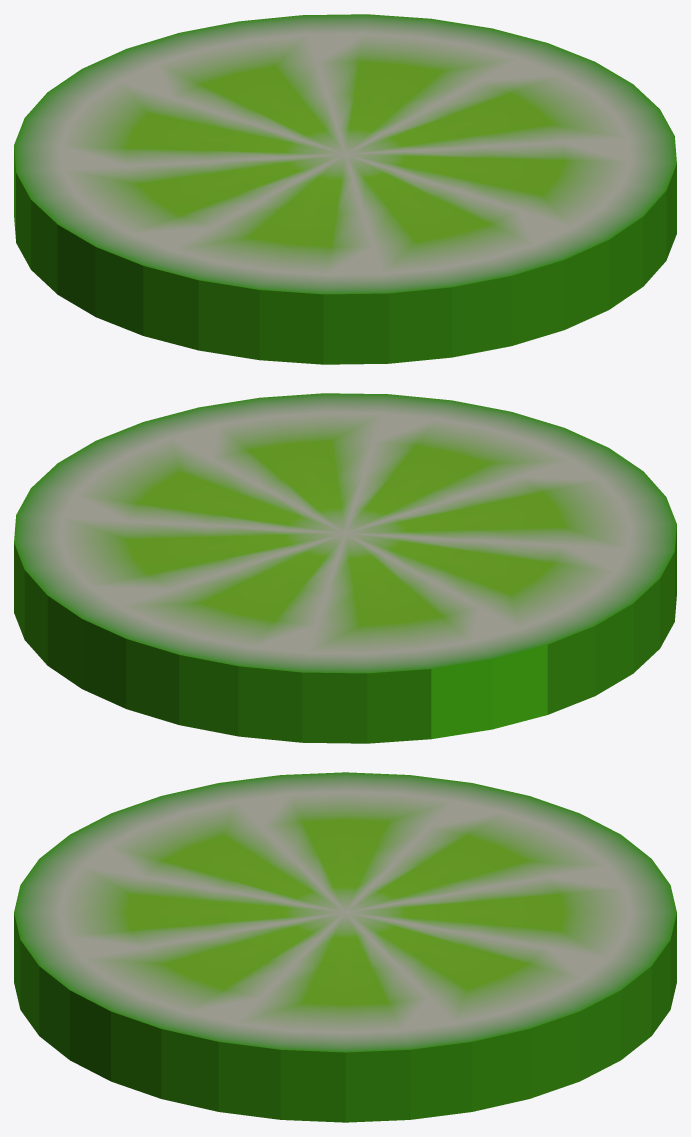
The model's file is Lime_Cut.glb.
3 renders of one model, top to bottom at view 1: azimuth 30°, elevation 25°; view 2: azimuth 150°, elevation 25°; view 3: azimuth 270°, elevation 25°, orthographic.
Parts seen in each view (by area): view 1: Lime_Cut; view 2: Lime_Cut; view 3: Lime_Cut.
Part boxes in pixels (x1,y1,x2,y2): Lime_Cut: [14, 14, 676, 364]; Lime_Cut: [14, 393, 676, 743]; Lime_Cut: [14, 772, 676, 1122].
Bounding box in the file's own units: 0.6 × 0.07 × 0.6.
